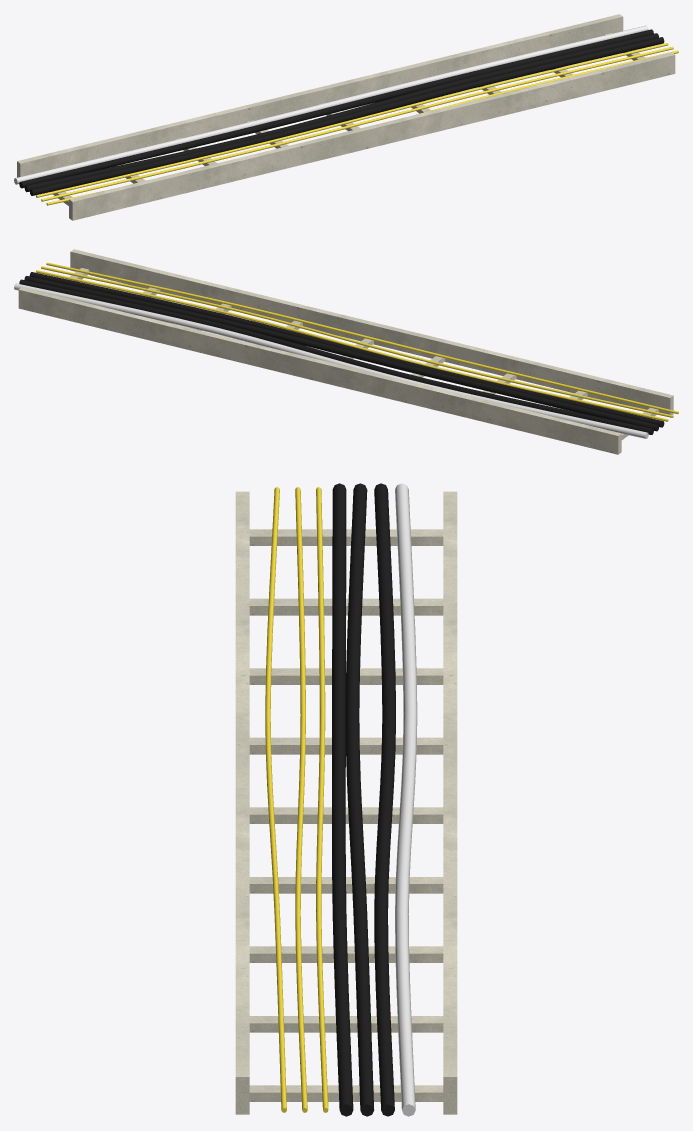
The model's file is C21b_Cable_Ladder.fbx.
The picture shows the model from 3 angles, top to bottom: view 1: azimuth 30°, elevation 25°; view 2: azimuth 150°, elevation 25°; view 3: azimuth 270°, elevation 25°; orthographic projection. The views are drawn at different scales.
Parts seen in each view (by area): view 1: Side_Rail, Side_Rail.001, Laid_Cable_3, Laid_Cable_5, Laid_Cable_6, Laid_Cable_4, Laid_Cable_1, Laid_Cable_2, Laid_Cable_0; view 2: Side_Rail.001, Side_Rail, Laid_Cable_4, Laid_Cable_5, Laid_Cable_6, Laid_Cable_3, Laid_Cable_1, Laid_Cable_0, Laid_Cable_2; view 3: Side_Rail, Side_Rail.001, Laid_Cable_4, Laid_Cable_5, Laid_Cable_6, Laid_Cable_3, Laid_Cable_2, Laid_Cable_0, Laid_Cable_1, Rung_1, Rung_3, Rung_6 (+6 smaller).
Boxes of the visible parts, x1,y1,x2,y2 form: Side_Rail: (69, 52, 675, 220); Side_Rail.001: (17, 14, 623, 177); Laid_Cable_3: (29, 37, 664, 195); Laid_Cable_5: (19, 29, 653, 188); Laid_Cable_6: (14, 25, 648, 184); Laid_Cable_4: (24, 33, 658, 192); Laid_Cable_1: (41, 46, 673, 201); Laid_Cable_2: (36, 43, 668, 197); Laid_Cable_0: (46, 50, 678, 205); Side_Rail.001: (18, 287, 621, 454); Side_Rail: (70, 249, 673, 414); Laid_Cable_4: (24, 276, 659, 431); Laid_Cable_5: (19, 279, 653, 434); Laid_Cable_6: (14, 283, 648, 438); Laid_Cable_3: (29, 272, 664, 427); Laid_Cable_1: (41, 266, 673, 417); Laid_Cable_0: (46, 262, 678, 414); Laid_Cable_2: (36, 270, 668, 421); Side_Rail: (235, 491, 249, 1114); Side_Rail.001: (443, 491, 457, 1114); Laid_Cable_4: (345, 483, 374, 1116); Laid_Cable_5: (374, 483, 395, 1116); Laid_Cable_6: (395, 483, 417, 1116); Laid_Cable_3: (332, 483, 353, 1116); Laid_Cable_2: (316, 487, 328, 1112); Laid_Cable_0: (265, 487, 286, 1112); Laid_Cable_1: (295, 487, 307, 1112); Rung_1: (249, 598, 443, 615); Rung_3: (249, 737, 443, 754); Rung_6: (249, 946, 443, 962).
Bounding box in the file's own units: 2.1 × 0.06 × 0.32.
4 materials, 1 textured.
